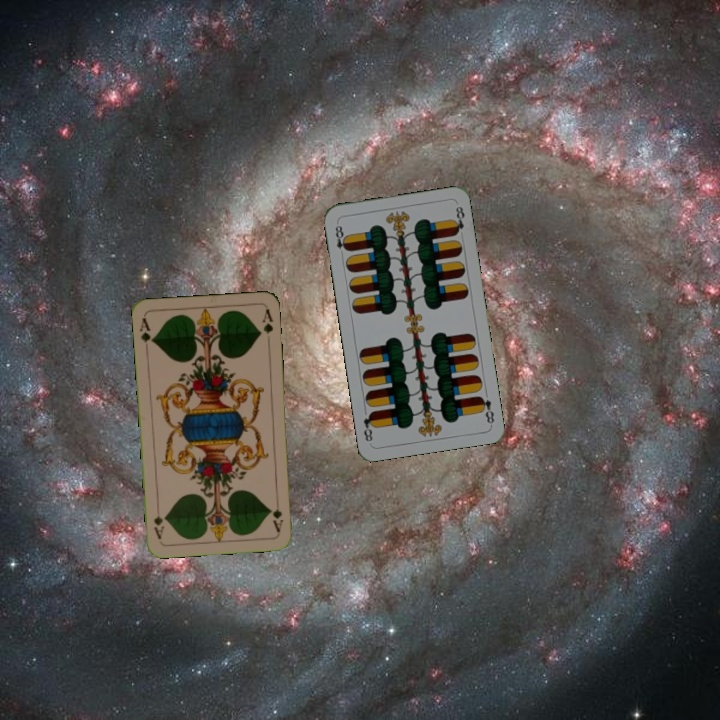E8: (475, 392, 497, 426), (331, 219, 351, 254)
GA: (136, 314, 156, 354), (269, 505, 286, 535)
